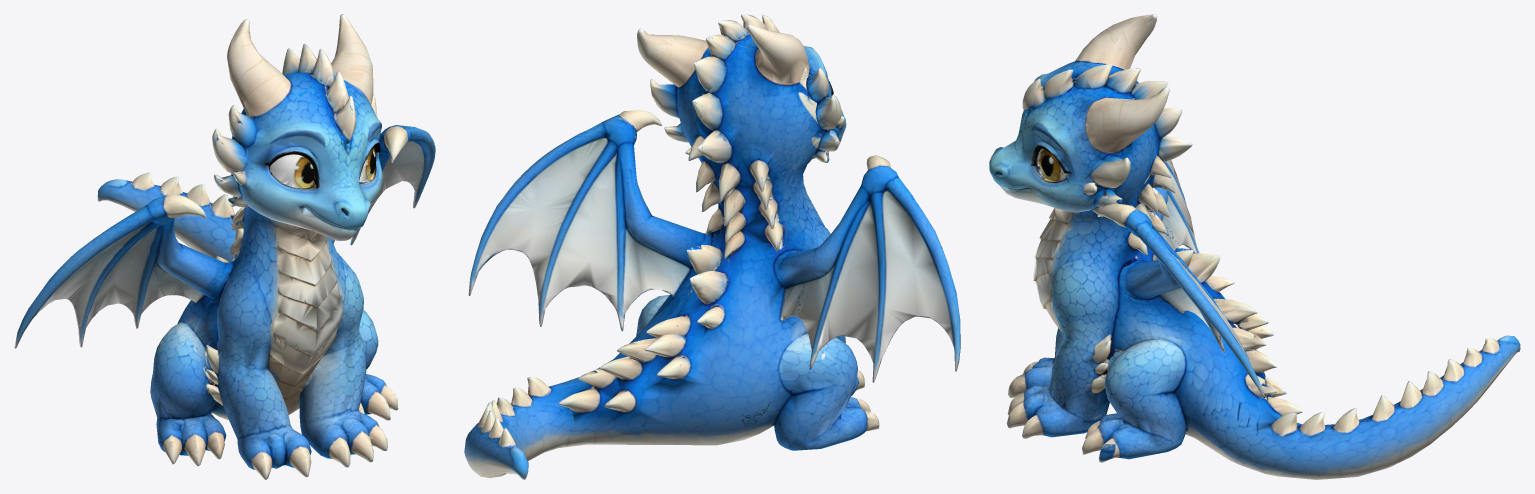
The model's file is comparison-seed3d.glb.
3 renders of one model, left to right at view 1: azimuth 30°, elevation 25°; view 2: azimuth 150°, elevation 25°; view 3: azimuth 270°, elevation 25°, orthographic. The views are drawn at different scales.
Parts seen in each view (by area): view 1: world; view 2: world; view 3: world.
Part boxes in pixels (left/top/right/bottom): world: left=14, top=14, right=435, bottom=479; world: left=464, top=14, right=960, bottom=479; world: left=989, top=14, right=1520, bottom=479.
Bounding box in the file's own units: 1.89 × 1.62 × 2.
Materials: 1 (1 with a texture image).
